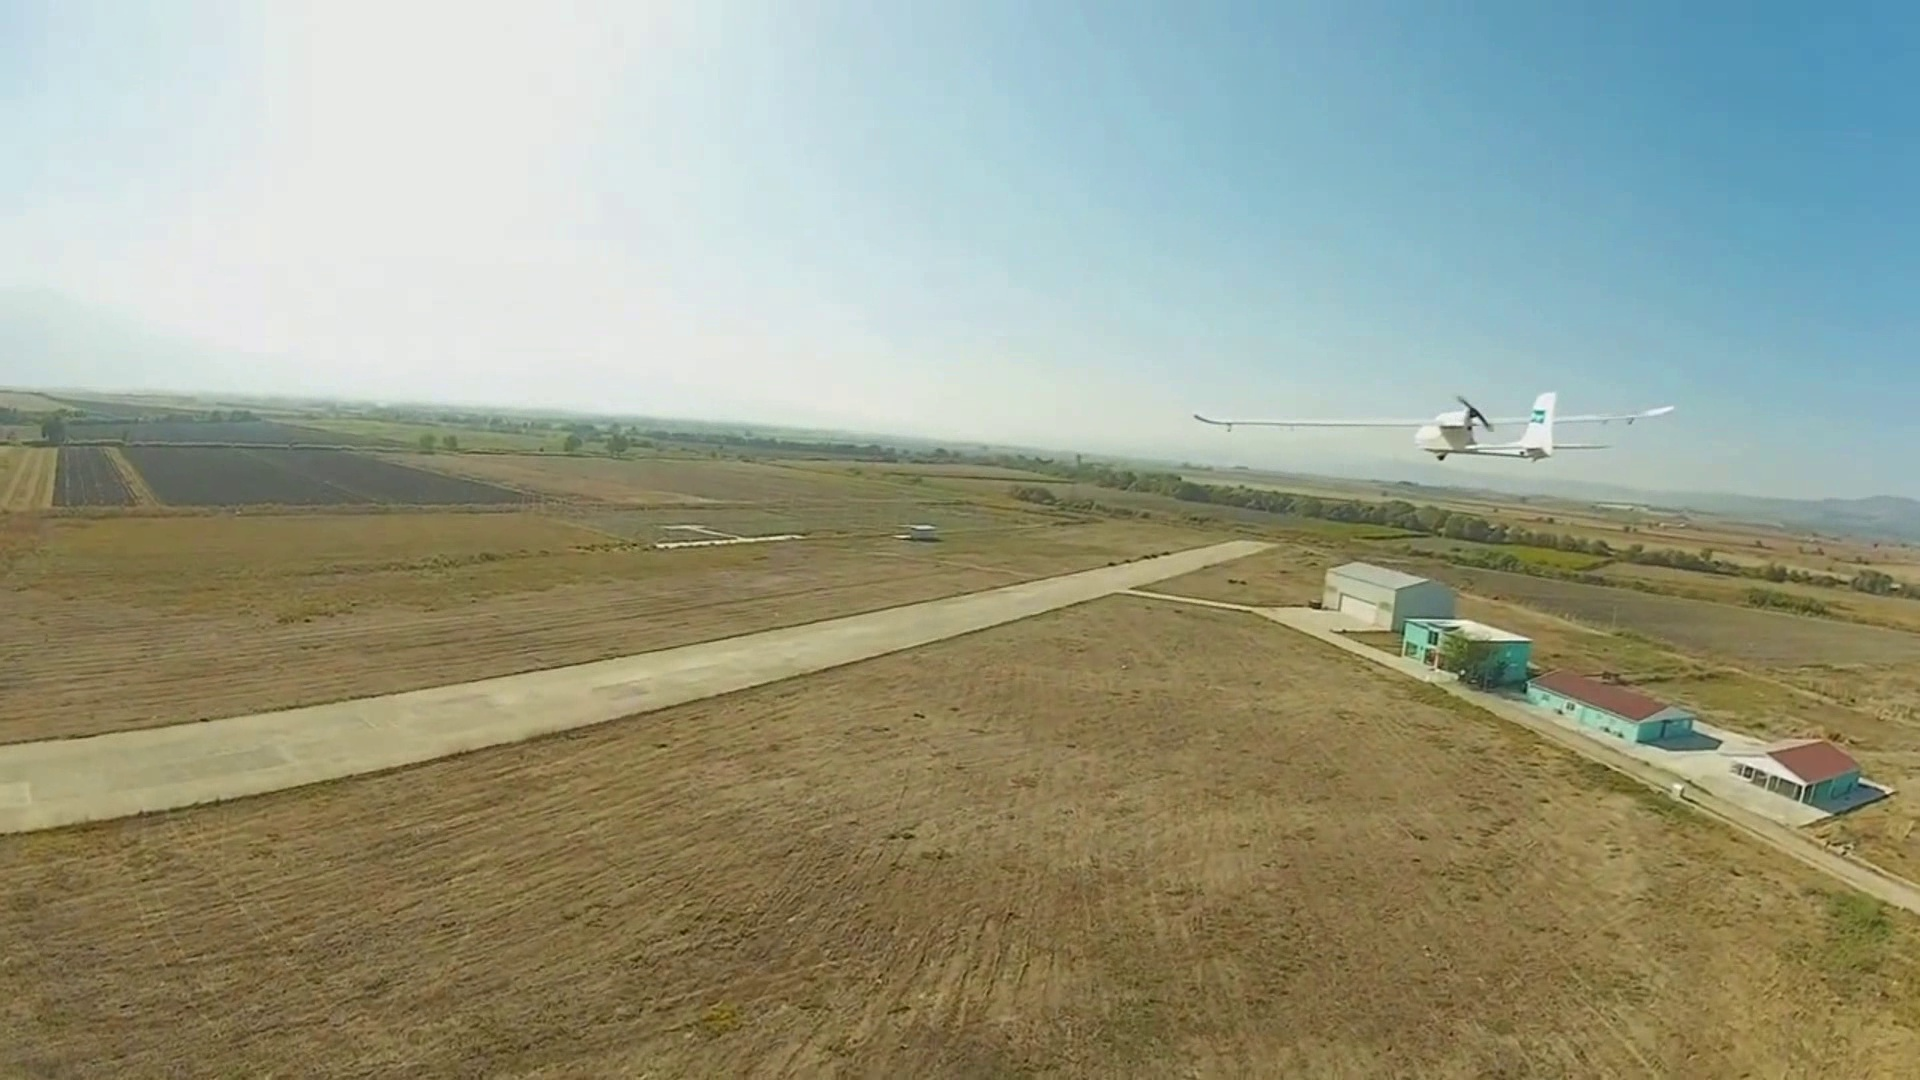airplane: (1187, 387, 1676, 463)
